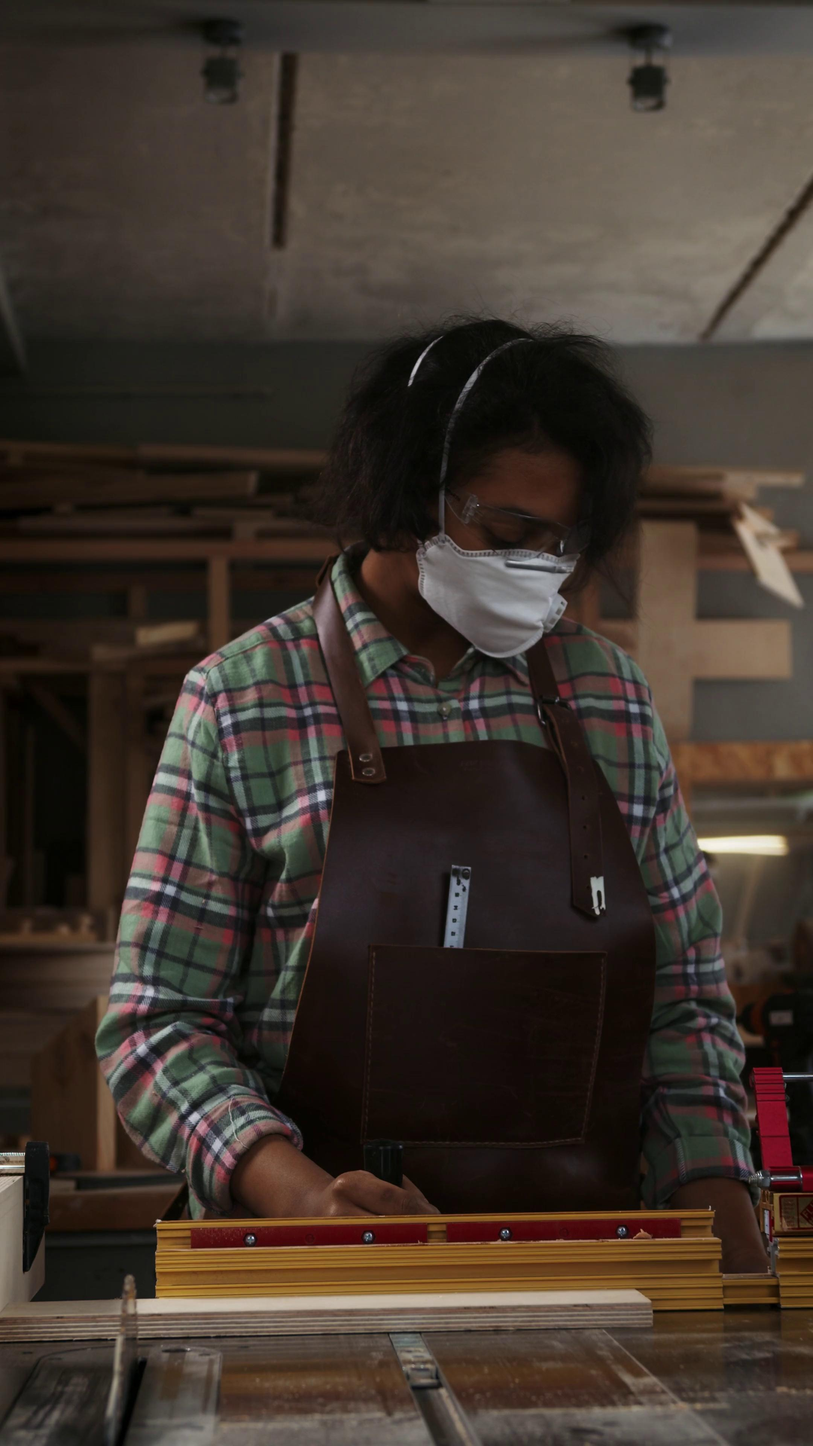mask: (415, 532, 582, 661)
person: (93, 309, 771, 1278)
